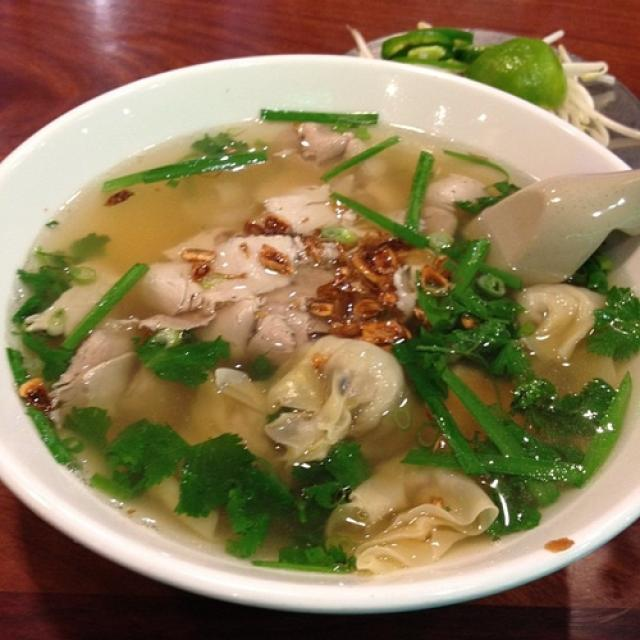汤锅炖物: (11, 66, 621, 594)
